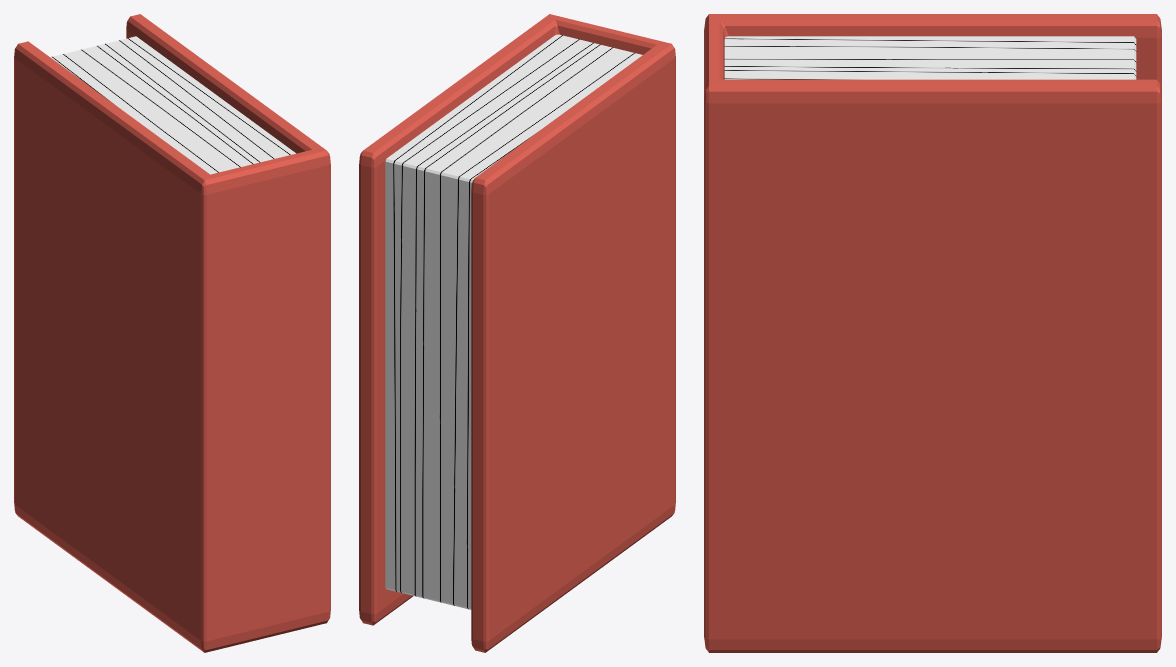
The model's file is Book.fbx.
3 renders of one model, left to right at view 1: azimuth 30°, elevation 25°; view 2: azimuth 150°, elevation 25°; view 3: azimuth 270°, elevation 25°, orthographic. The views are drawn at different scales.
Parts seen in each view (by area): view 1: Cube.003; view 2: Cube.003; view 3: Cube.003.
Part boxes in pixels (<box>): Cube.003: <box>14,14,330,652</box>; Cube.003: <box>359,14,675,652</box>; Cube.003: <box>704,14,1161,652</box>.
Size of the model in its own units: 187 by 651 by 476.
